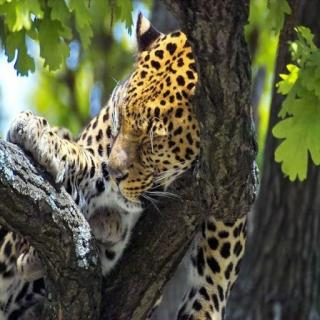Leopard: (37, 28, 202, 244)
